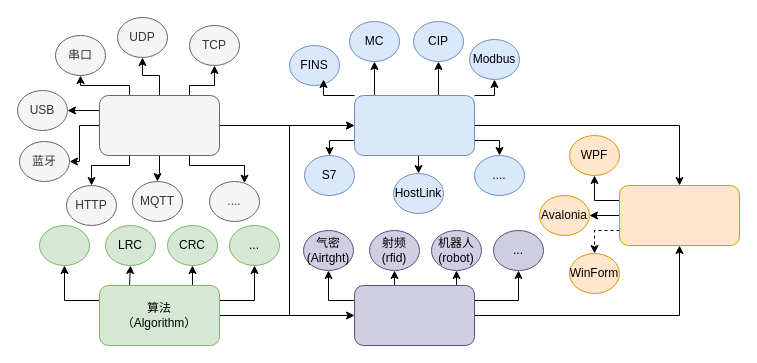
This 757x363 diagram has some shape labels left out. The centre of each missing label's shape, as x and y in pixels:
"PID" goes at [64,245].
"协议 （Protocol）" goes at [414,125].
"界面 （Ui）" goes at [679,215].
"设备 （Device）" goes at [414,315].
"通信 （Communication）" goes at [159,125].
